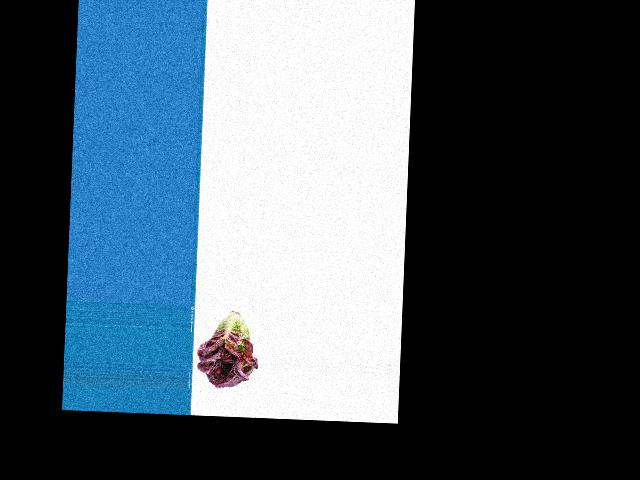lettuce: (195, 309, 257, 388)
